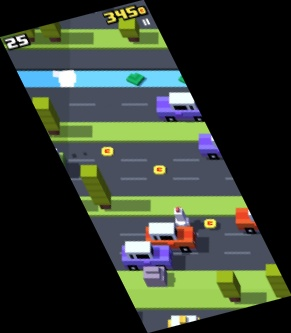car: (157, 92, 210, 121), (198, 130, 248, 160), (146, 223, 197, 252), (122, 241, 173, 270), (236, 203, 283, 233), (31, 147, 69, 174), (167, 315, 208, 333)
coin: (100, 146, 115, 156), (153, 164, 166, 175), (204, 219, 216, 229)
duck: (173, 205, 190, 230)
lilypad: (127, 72, 146, 87), (178, 71, 197, 86)
rock: (143, 266, 166, 287)
tree: (80, 166, 111, 209), (30, 96, 61, 135), (266, 265, 291, 303), (216, 270, 241, 302), (38, 12, 61, 43), (14, 16, 36, 44), (118, 17, 138, 44)
